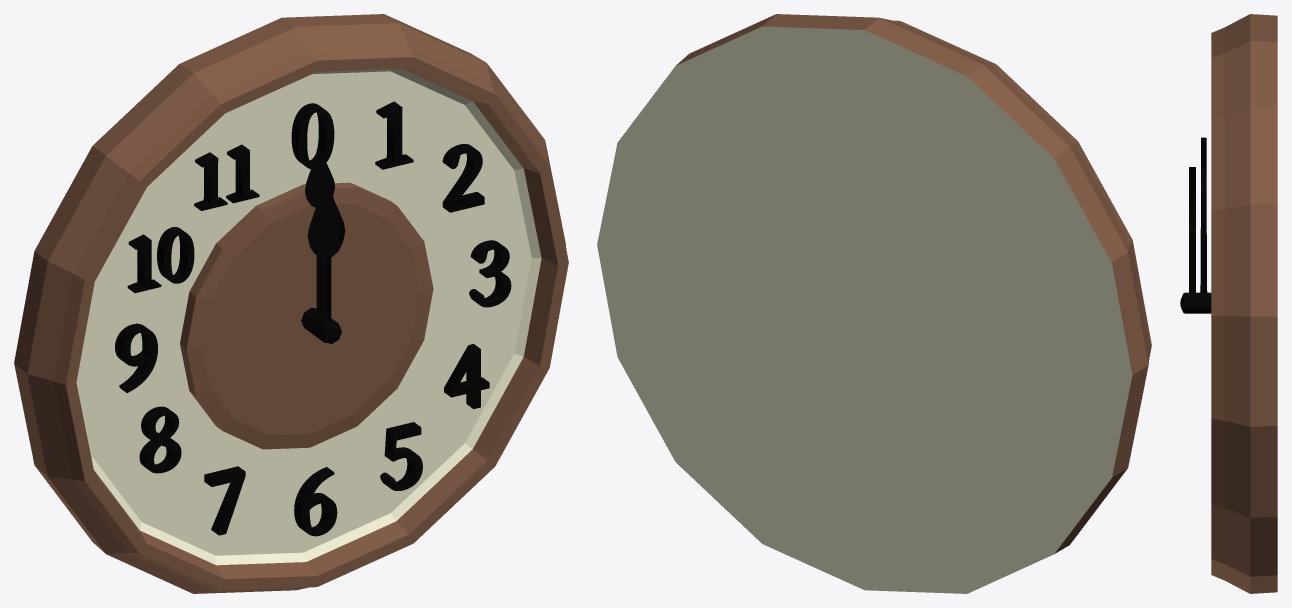
Rendered from theme02_wallclock02.fbx.
The picture shows the model from 3 angles, left to right: view 1: azimuth 30°, elevation 25°; view 2: azimuth 150°, elevation 25°; view 3: azimuth 270°, elevation 25°; orthographic projection. The views are drawn at different scales.
Visible parts, largest first — view 1: CLOCK02.001; view 2: CLOCK02.001; view 3: CLOCK02.001.
Part boxes in pixels (bbox=[...]): CLOCK02.001: bbox=[14, 14, 568, 593]; CLOCK02.001: bbox=[597, 14, 1151, 593]; CLOCK02.001: bbox=[1180, 14, 1277, 593].
Size of the model in its own units: 93.24 by 93.24 by 15.66.
